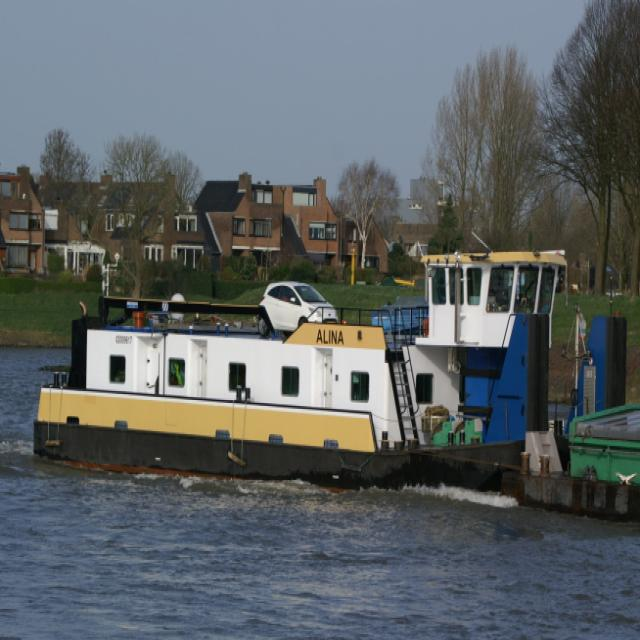tugboat: (28, 231, 634, 518)
